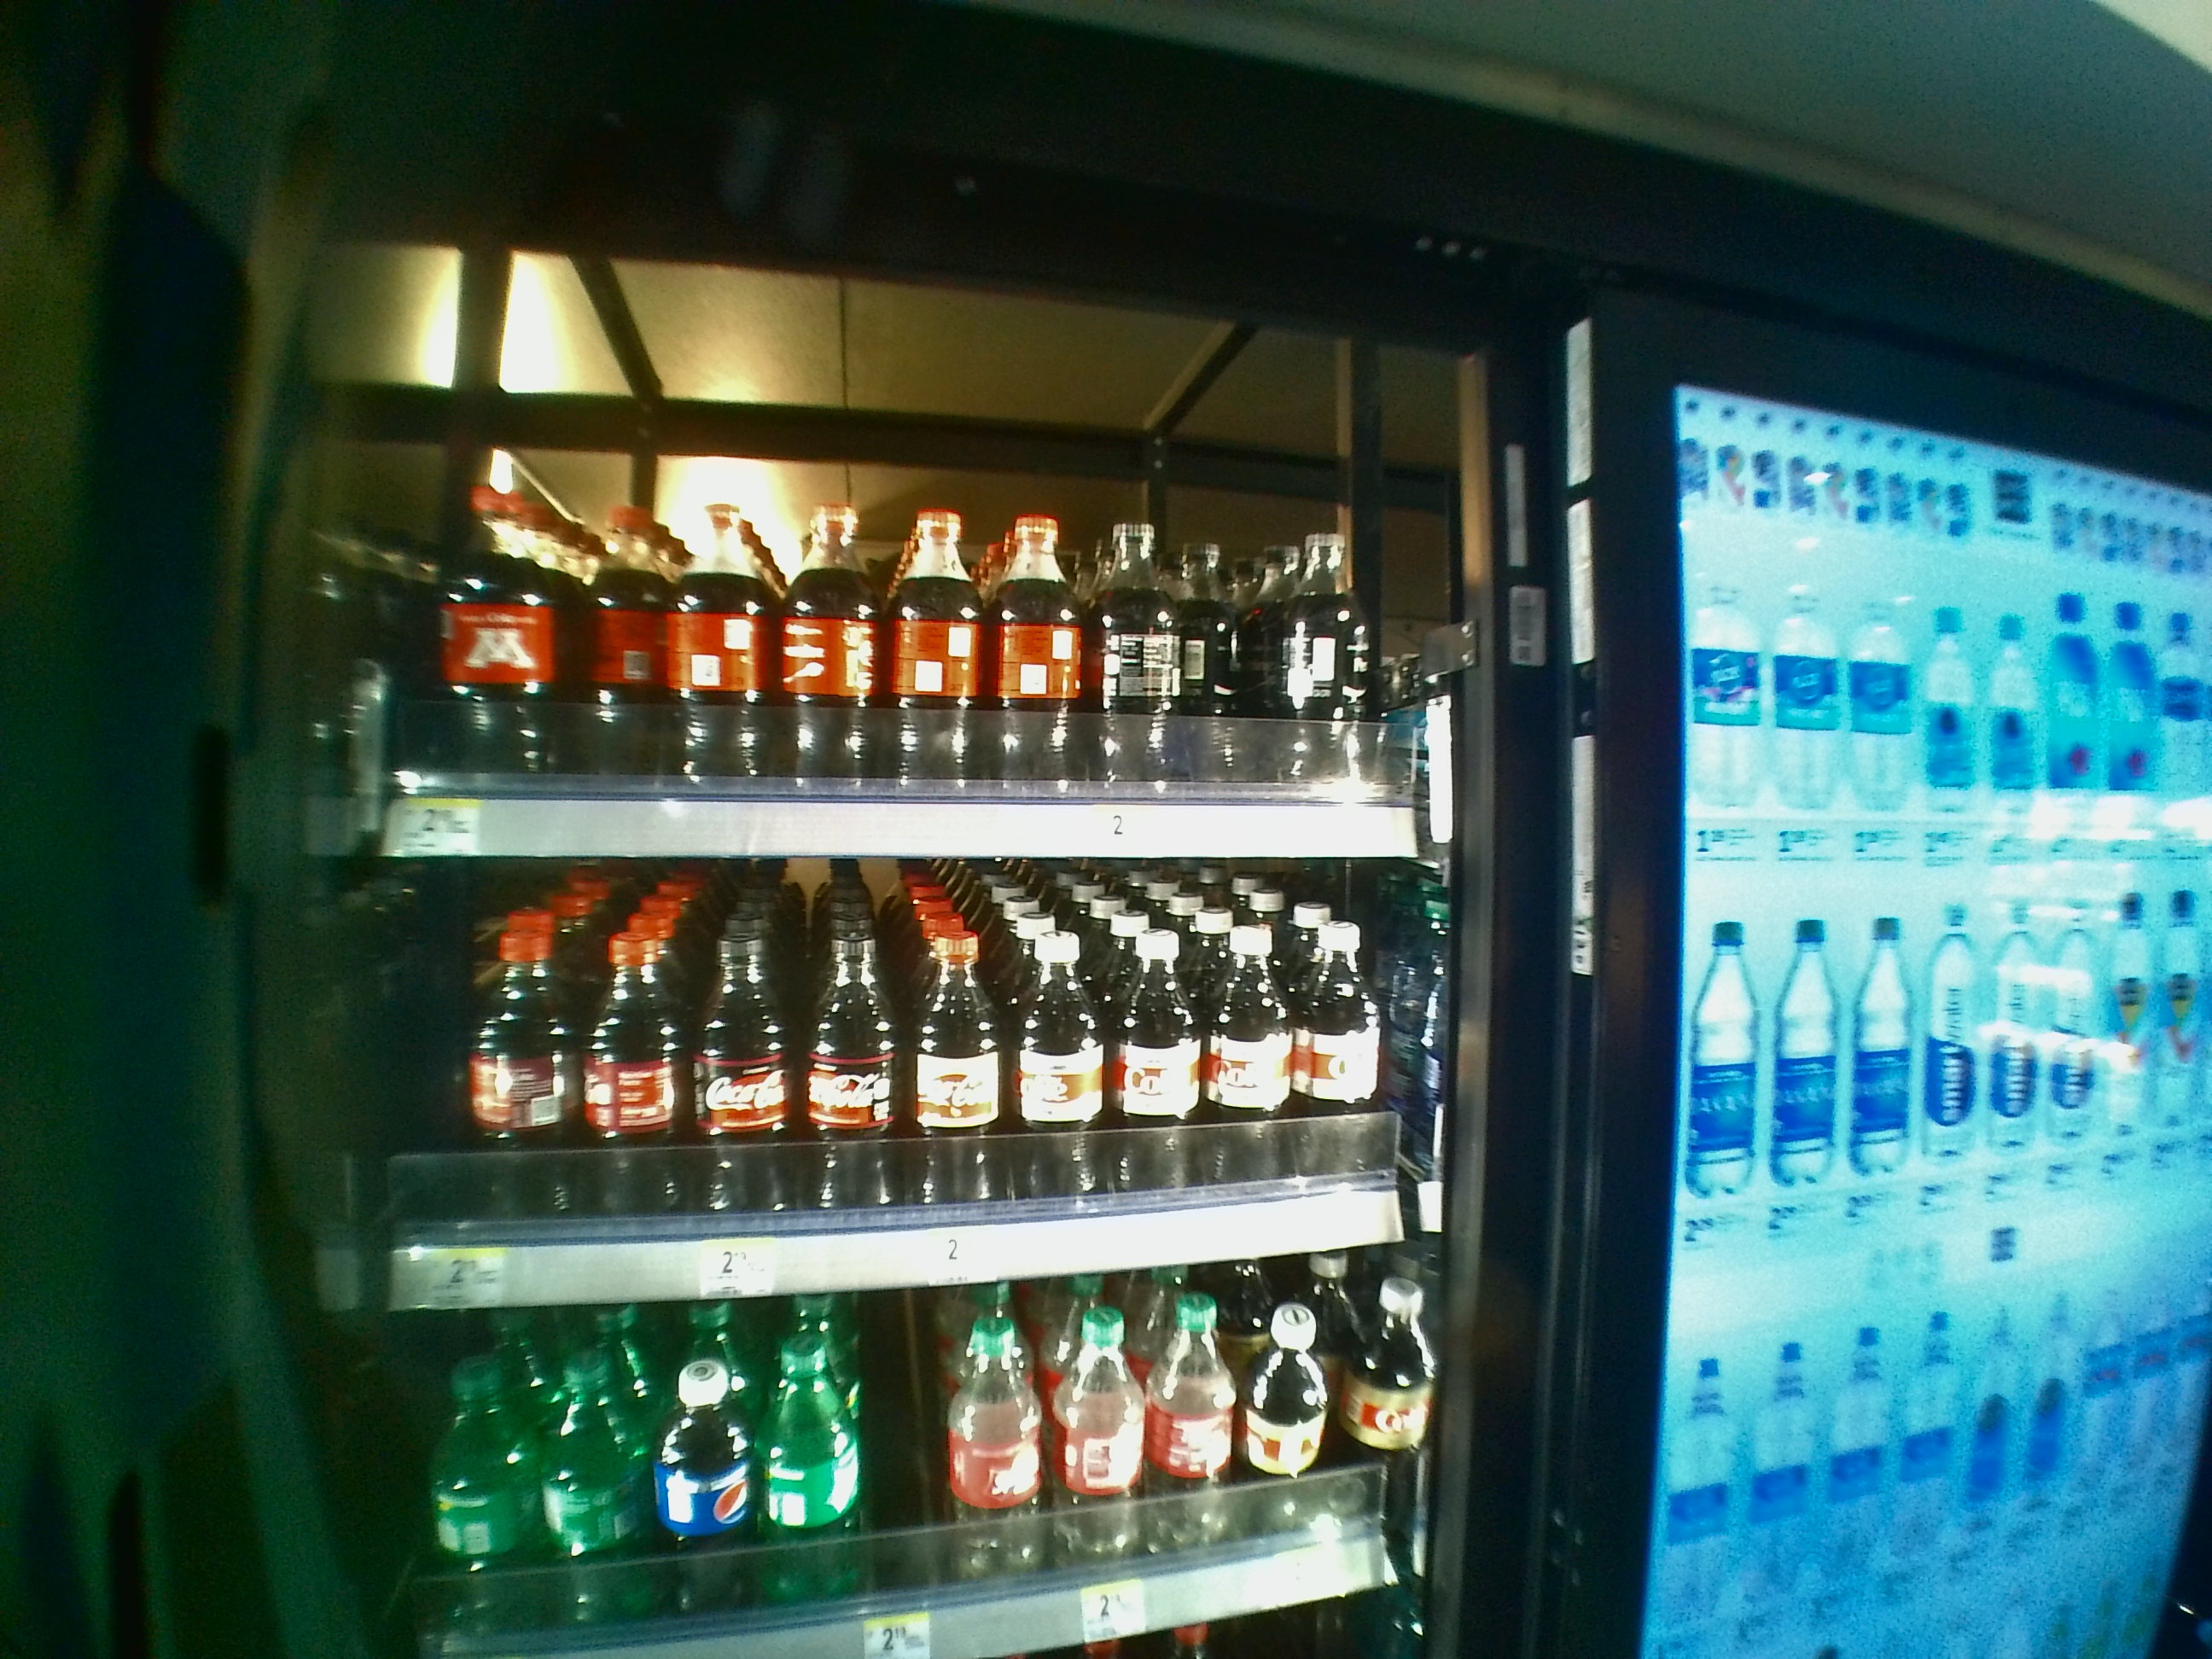shelf: (361, 369, 1420, 857), (366, 873, 1416, 1298)
